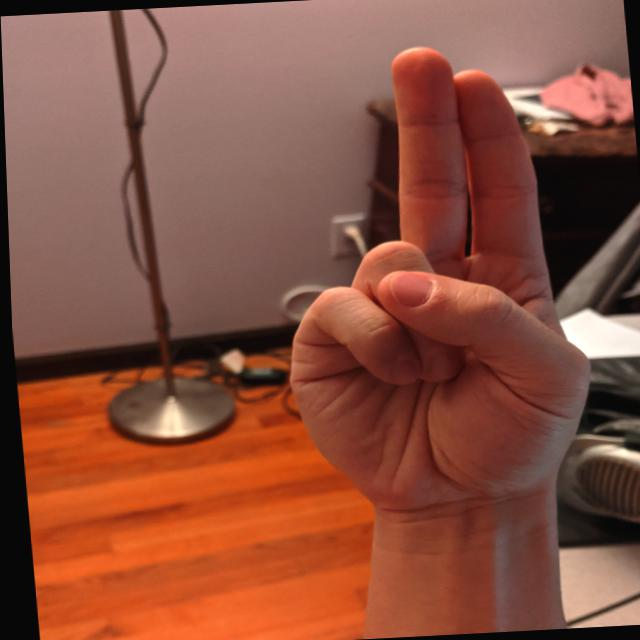U: (250, 31, 611, 524)
